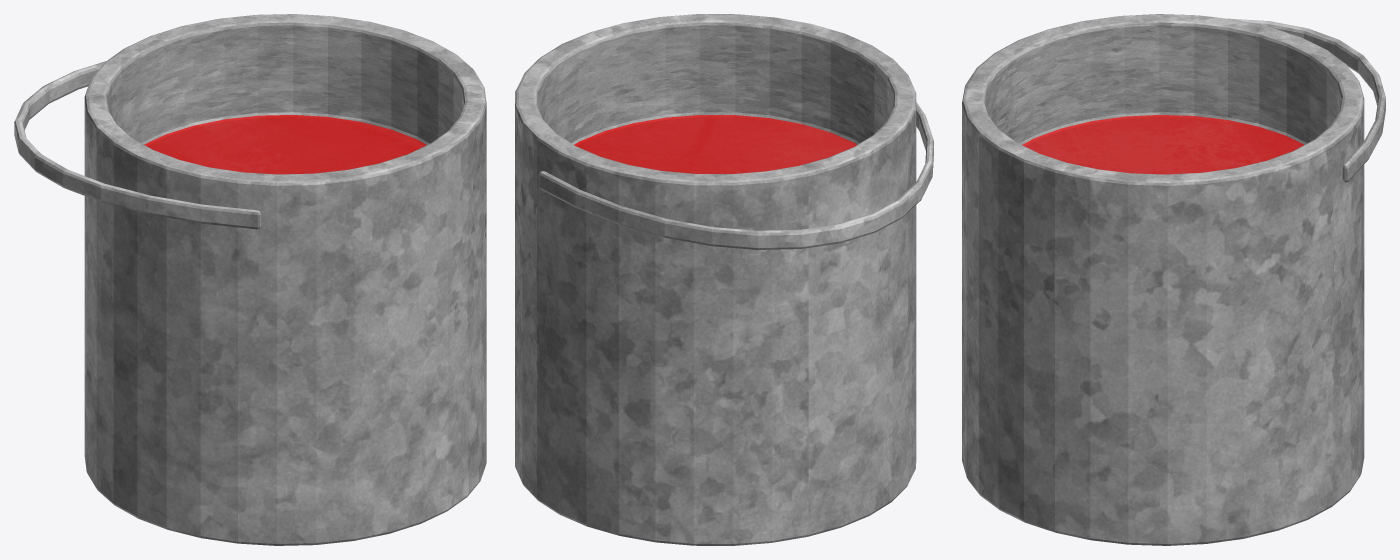
File: pot rouge.fbx
The picture shows the model from 3 angles, left to right: view 1: azimuth 30°, elevation 25°; view 2: azimuth 150°, elevation 25°; view 3: azimuth 270°, elevation 25°; orthographic projection.
Parts seen in each view (by area): view 1: pot 1; view 2: pot 1; view 3: pot 1.
Boxes of the visible parts, left/top/right/bottom form: pot 1: left=14, top=14, right=486, bottom=545; pot 1: left=515, top=14, right=933, bottom=545; pot 1: left=962, top=14, right=1385, bottom=545.
Size of the model in its own units: 61.18 by 54.23 by 57.12.
1 material, 1 textured.
